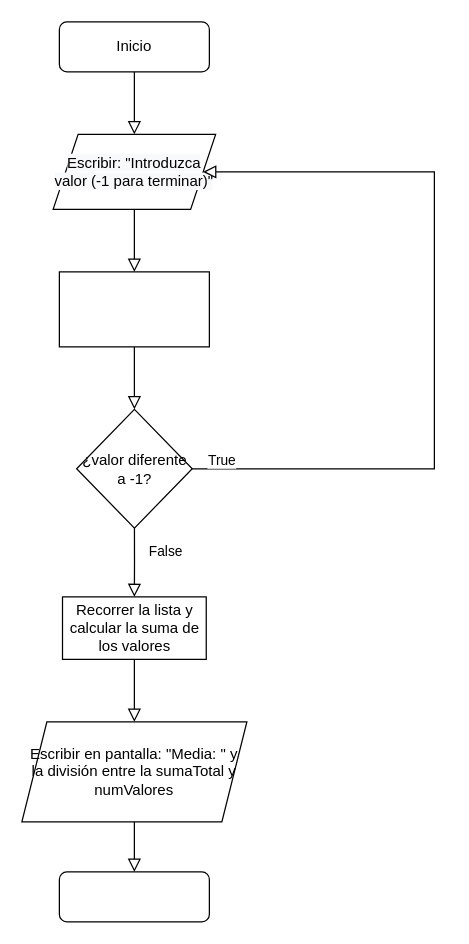
Image size: 469x944. Some labels were removed from this diagram. The box of each missing label's shape, as (x1, y1, x2, y2) in pixels:
Añadir el valor a listaNotas: (58, 271, 209, 347)
Fin: (58, 871, 209, 922)
